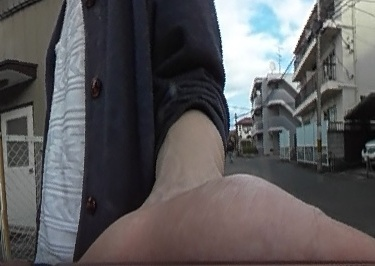person: (225, 138, 234, 163)
